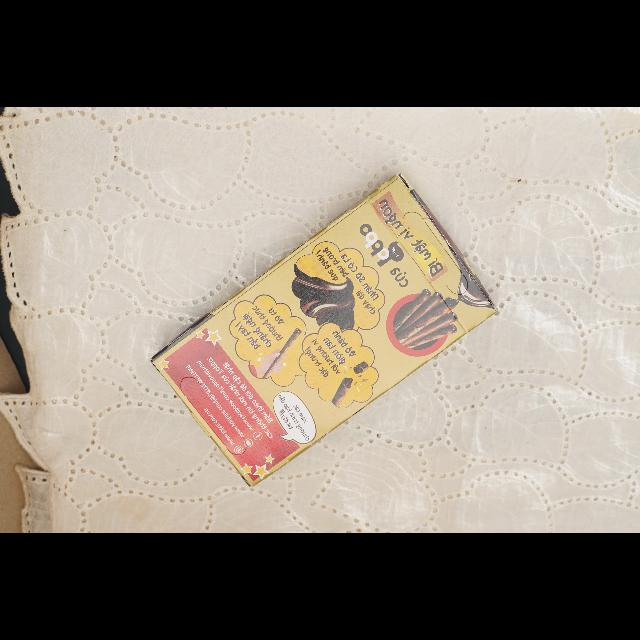banh_toppo_socola: (153, 174, 496, 486)
